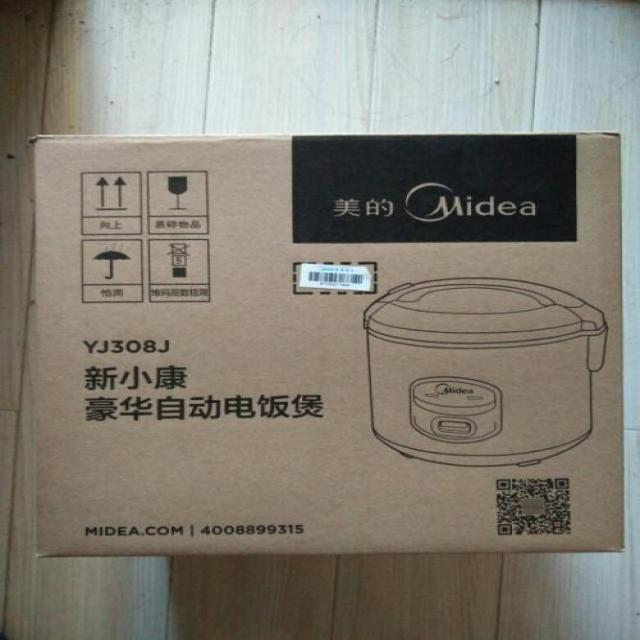cardboard: (25, 128, 640, 557)
